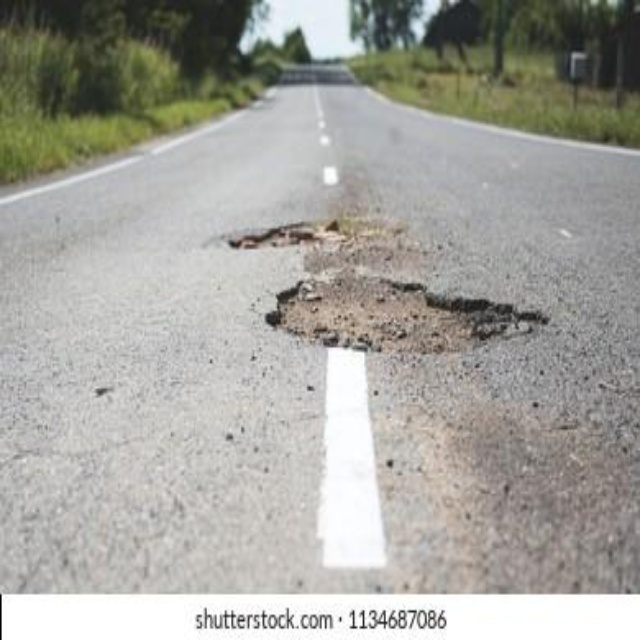pothole: (238, 217, 551, 359)
